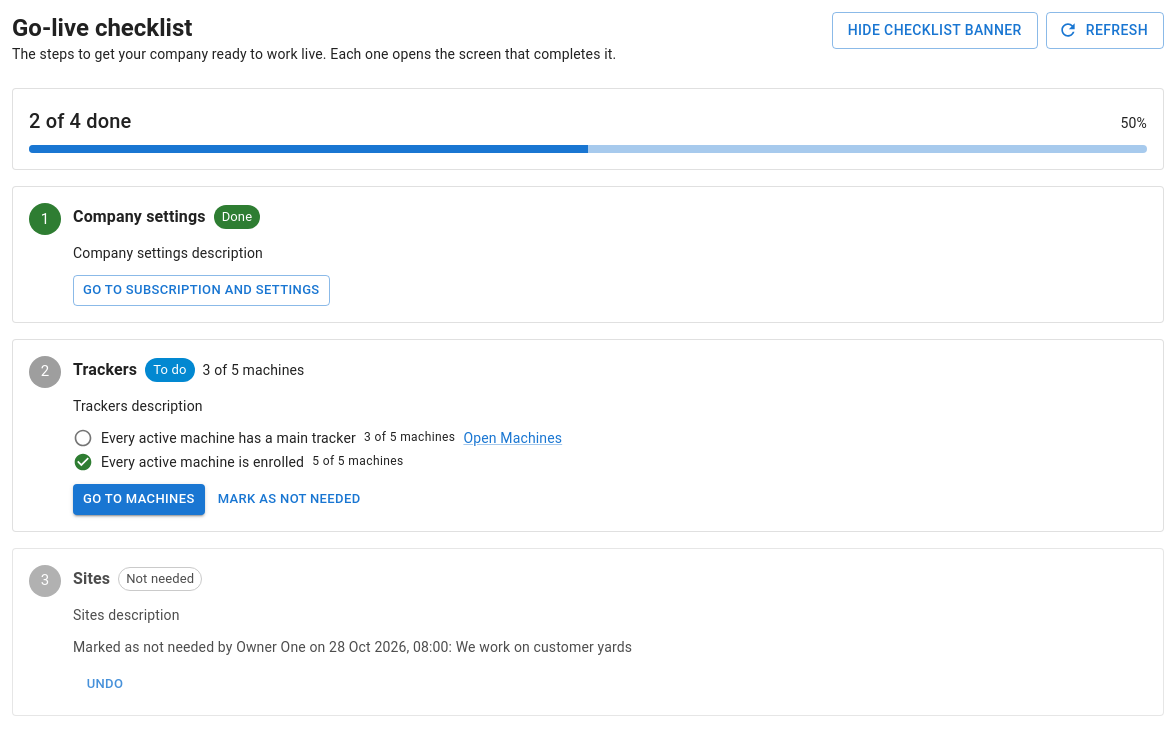
Test: go-live checklist page › hides the banner and offers to show it again
Click the button "Hide checklist banner" at {"x": 935, "y": 30}, box [832,12,1038,48]
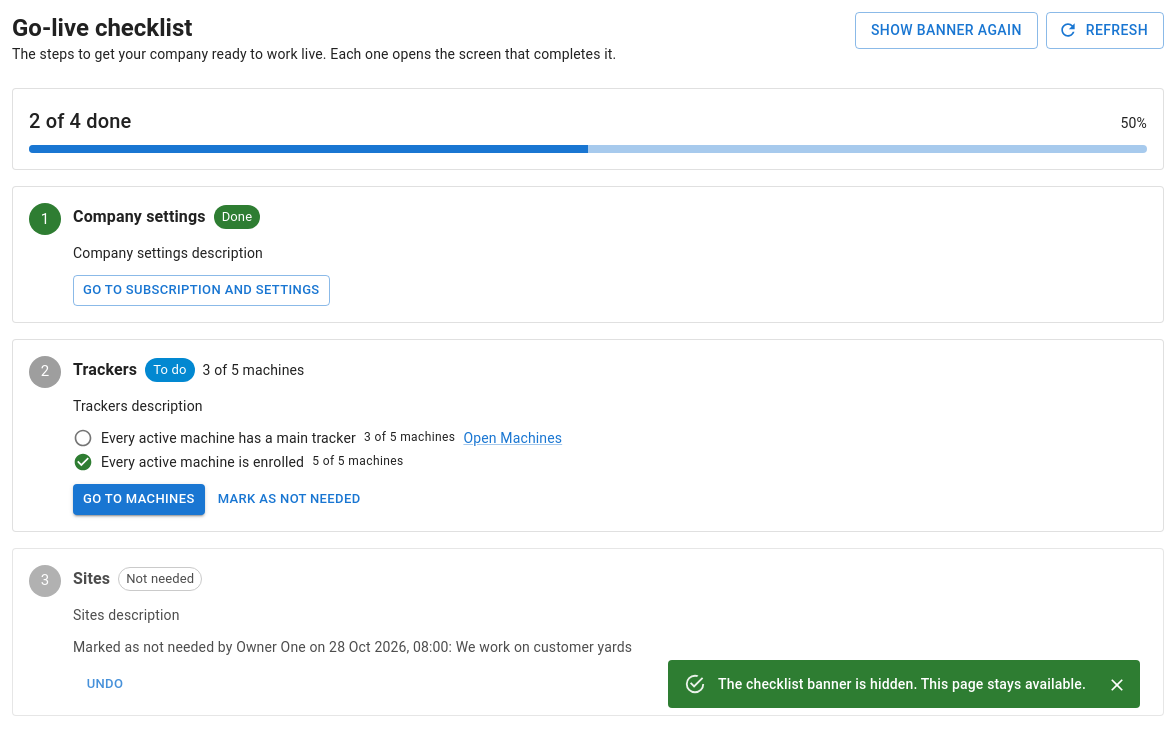
Click the button "Show banner again" at {"x": 946, "y": 30}, box [855,12,1038,48]
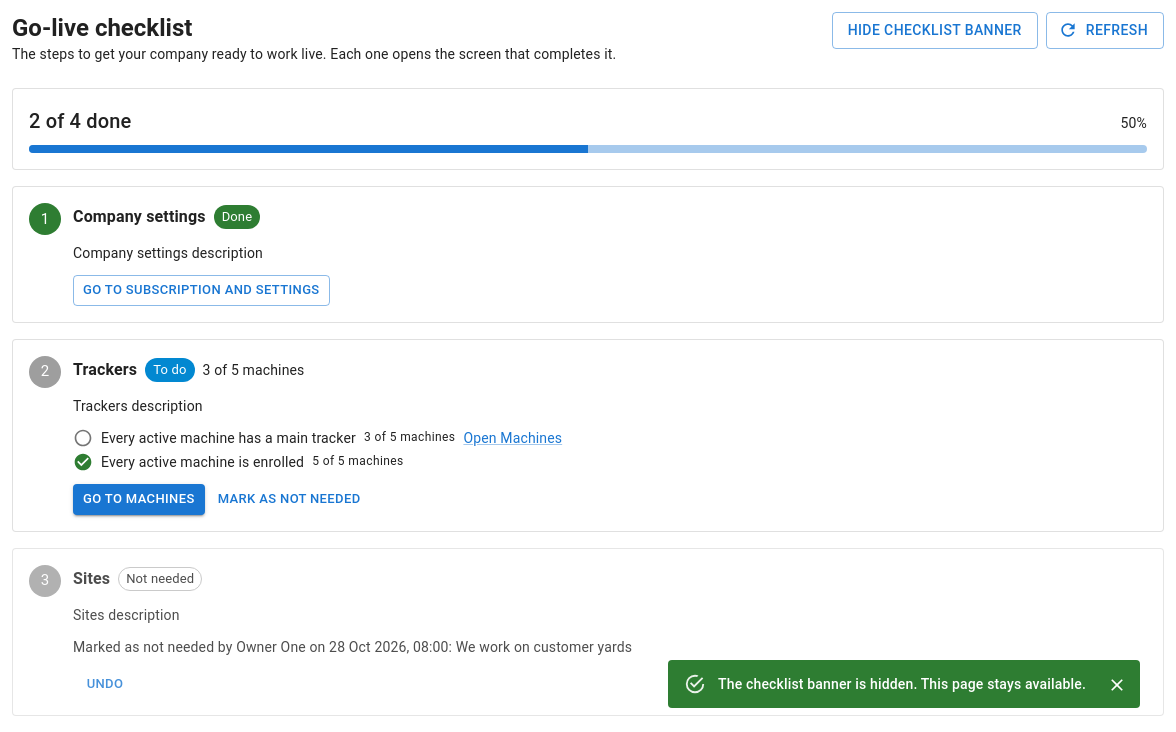
Result: the button "Hide checklist banner" is shown at [832,12,1038,48]
